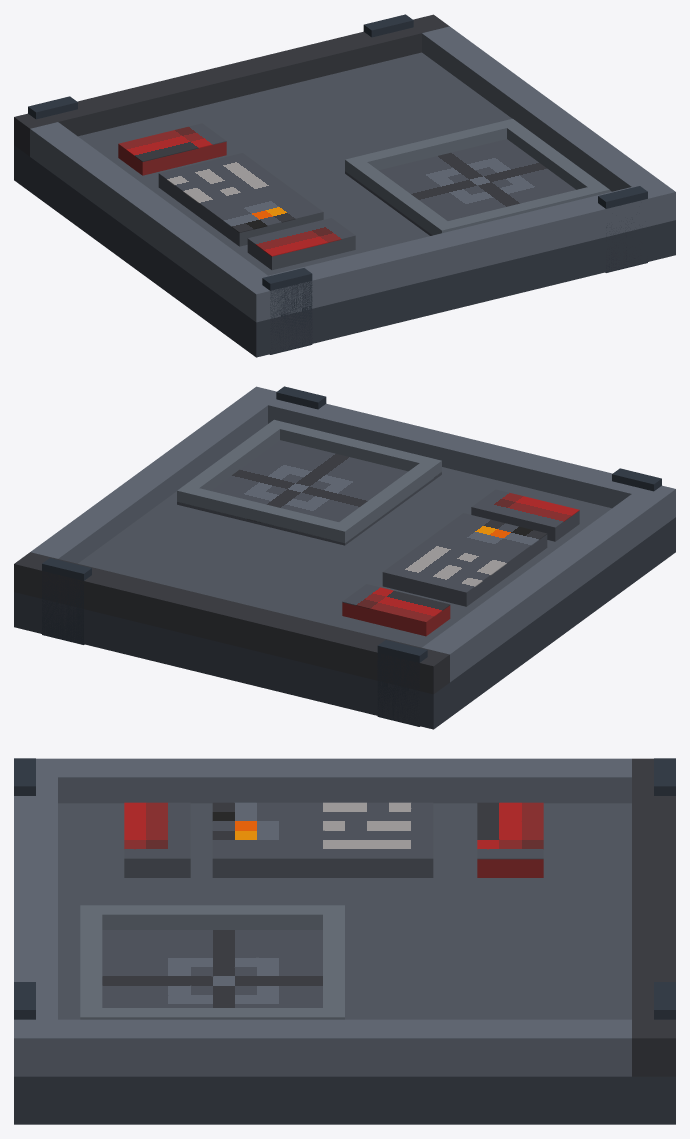
The model's file is CMU3DSentryDeployerCloudEast.glb.
3 renders of one model, top to bottom at view 1: azimuth 30°, elevation 25°; view 2: azimuth 150°, elevation 25°; view 3: azimuth 270°, elevation 25°, orthographic. The views are drawn at different scales.
Parts seen in each view (by area): view 1: recessed hatch lid, solid hatch undercarriage, south rail, north rail, west rail, east rail, inset mechanical hatch original top, raised latch or control block 3 original top, separate hatch rim (16, 16, 28, 17), external anchor lug (2, 30), raised latch or control block 1 original top, raised latch or control block 2 original top (+9 smaller); view 2: recessed hatch lid, solid hatch undercarriage, north rail, south rail, west rail, east rail, inset mechanical hatch original top, raised latch or control block 3 original top, separate hatch rim (16, 16, 28, 17), external anchor lug (26, 1), external anchor lug (2, 1), separate hatch rim (16, 27, 28, 28) (+10 smaller); view 3: recessed hatch lid, east rail, solid hatch undercarriage, west rail, inset mechanical hatch original top, raised latch or control block 3 original top, north rail, south rail, separate hatch rim (16, 17, 17, 27), raised latch or control block 3, raised latch or control block 1 original top, raised latch or control block 2 original top (+9 smaller).
Boxes of the visible parts, x1,y1,x2,y2 form: recessed hatch lid: (78,52,611,275); solid hatch undercarriage: (14,145,675,357); south rail: (240,180,675,322); north rail: (14,14,449,156); west rail: (30,122,267,310); east rail: (422,26,659,191); inset mechanical hatch original top: (345,139,575,235); raised latch or control block 3 original top: (158,153,323,232); separate hatch rim (16, 16, 28, 17): (345,118,520,175); external anchor lug (2, 30): (262,268,312,354); raised latch or control block 1 original top: (118,123,226,161); raised latch or control block 2 original top: (247,218,355,256); recessed hatch lid: (78,467,611,647); solid hatch undercarriage: (14,517,675,729); north rail: (14,552,449,694); south rail: (240,386,675,528); west rail: (422,494,659,682); east rail: (30,398,267,563); inset mechanical hatch original top: (177,440,441,542); raised latch or control block 3 original top: (382,513,547,593); separate hatch rim (16, 16, 28, 17): (177,484,352,543); external anchor lug (26, 1): (42,558,91,644); external anchor lug (2, 1): (377,640,427,726); separate hatch rim (16, 27, 28, 28): (266,419,441,476); recessed hatch lid: (58,803,631,1019); east rail: (58,1019,631,1076); solid hatch undercarriage: (14,1076,675,1124); west rail: (58,758,631,803); inset mechanical hatch original top: (102,930,322,1007); raised latch or control block 3 original top: (212,802,433,859); north rail: (632,758,675,1076); south rail: (14,758,57,1076); separate hatch rim (16, 17, 17, 27): (102,905,322,929); raised latch or control block 3: (212,859,433,877); raised latch or control block 1 original top: (477,802,543,859); raised latch or control block 2 original top: (124,802,190,859).
Bounding box in the file's own units: 0.9375 × 0.152 × 0.9375.
Materials: 12 (4 with a texture image).
